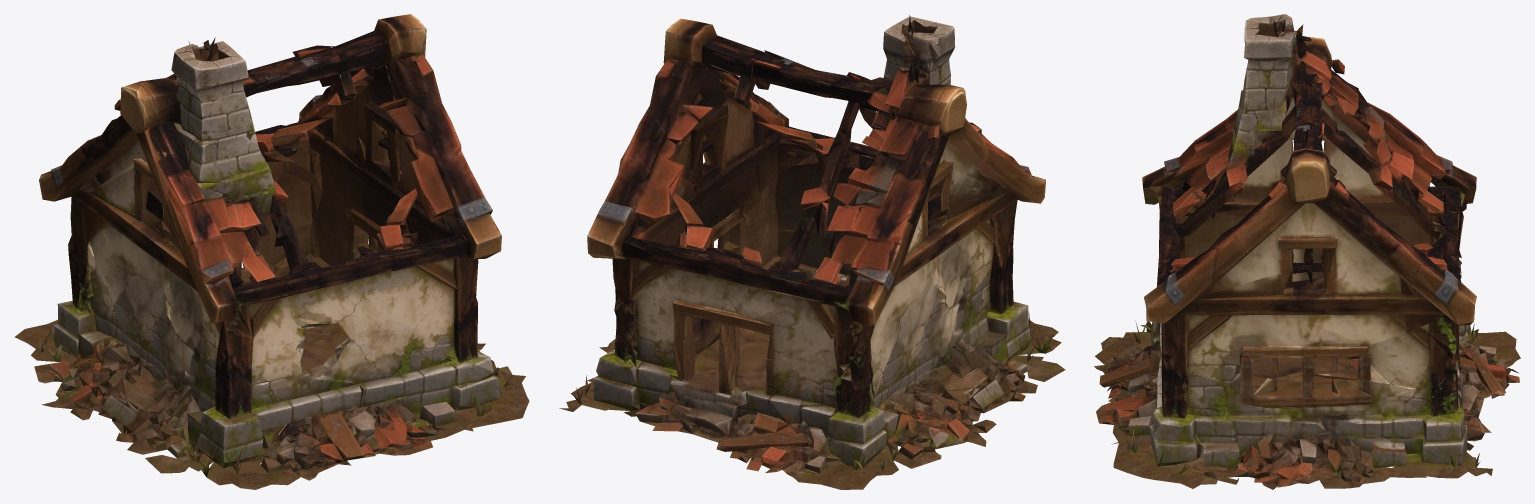
The model's file is house_ruin.glb.
3 renders of one model, left to right at view 1: azimuth 30°, elevation 25°; view 2: azimuth 150°, elevation 25°; view 3: azimuth 270°, elevation 25°, orthographic. The views are drawn at different scales.
Parts seen in each view (by area): view 1: Mesh_0; view 2: Mesh_0; view 3: Mesh_0.
Part boxes in pixels (box(x1,y1,x2,y2)): Mesh_0: box(14, 14, 529, 489); Mesh_0: box(559, 15, 1065, 489); Mesh_0: box(1094, 14, 1520, 489).
Size of the model in its own units: 1.89 by 1.7 by 1.88.
1 material, 1 textured.
